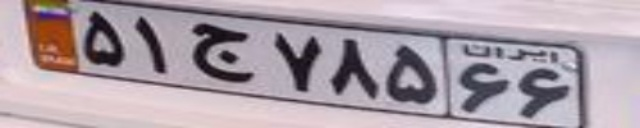1: (132, 15, 169, 74)
5: (390, 45, 436, 104), (79, 10, 124, 67)
6: (516, 68, 572, 118), (458, 62, 508, 114)
7: (270, 32, 322, 92)
8: (327, 39, 380, 98)
jim: (186, 23, 254, 85)
